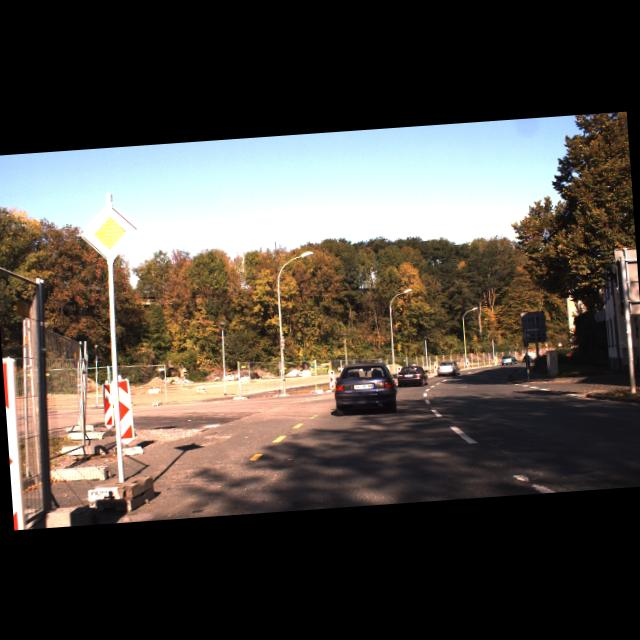other: (80, 200, 142, 262)
